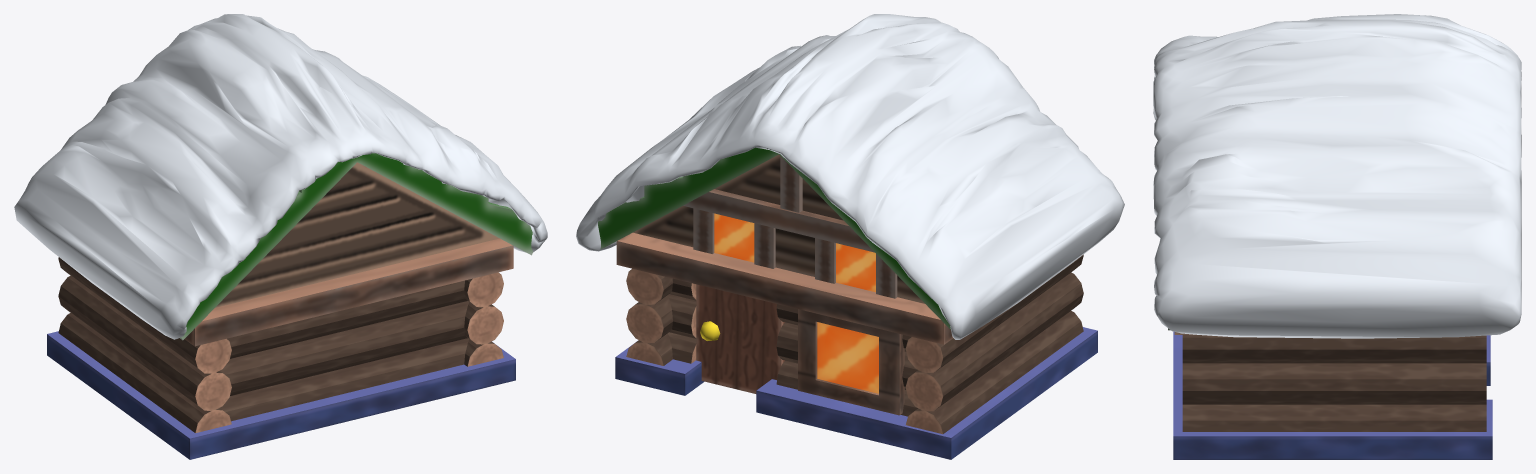
Rendered from cabin_1.glb.
3 views of the same model, side by side, from view 1: azimuth 30°, elevation 25°; view 2: azimuth 150°, elevation 25°; view 3: azimuth 270°, elevation 25° (orthographic). The views are drawn at different scales.
Parts seen in each view (by area): view 1: Snow, Wall Back, Top of House, Base, Wall Right, Plank, Roof.003, Wall Left; view 2: Snow, Wall Right, Base, Plank, Door, Roof.003, Top of House, Window Frame, Wall Front, Plank.003, Wall Left, Window Glow Bottom (+7 smaller); view 3: Snow, Wall Left, Base.
Part boxes in pixels (x1,y1,x2,y2): Snow: (14, 14, 547, 339); Wall Back: (220, 280, 469, 421); Top of House: (215, 162, 499, 307); Base: (47, 331, 515, 459); Wall Right: (58, 257, 231, 433); Plank: (185, 238, 513, 346); Roof.003: (180, 153, 533, 340); Wall Left: (464, 272, 503, 366); Snow: (576, 14, 1124, 339); Wall Right: (905, 254, 1083, 434); Base: (615, 327, 1097, 459); Plank: (616, 232, 952, 344); Door: (696, 284, 784, 393); Roof.003: (598, 147, 950, 329); Top of House: (633, 154, 924, 303); Window Frame: (798, 309, 904, 415); Wall Front: (668, 278, 917, 416); Plank.003: (683, 189, 874, 252); Wall Left: (626, 268, 672, 365); Window Glow Bottom: (817, 322, 878, 393); Snow: (1153, 14, 1521, 338); Wall Left: (1182, 335, 1486, 431); Base: (1173, 331, 1492, 459).
Bounding box in the file's own units: 6.37 × 5.11 × 4.85.
10 materials, 9 textured.
